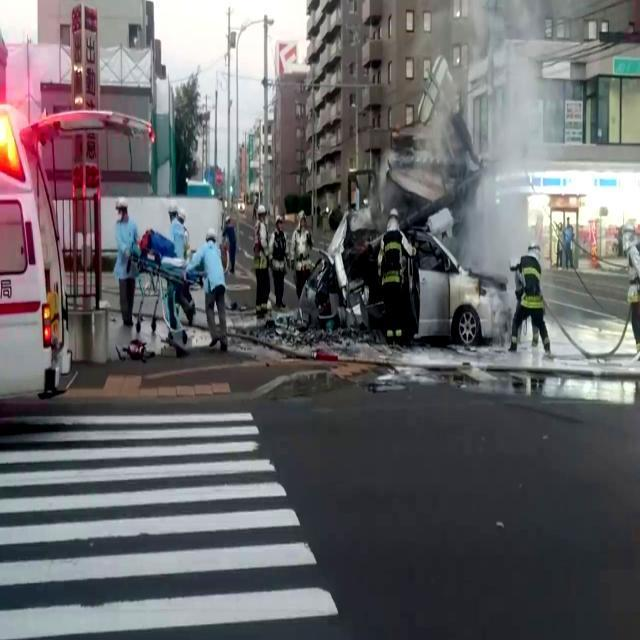Smoke: (449, 3, 559, 261)
